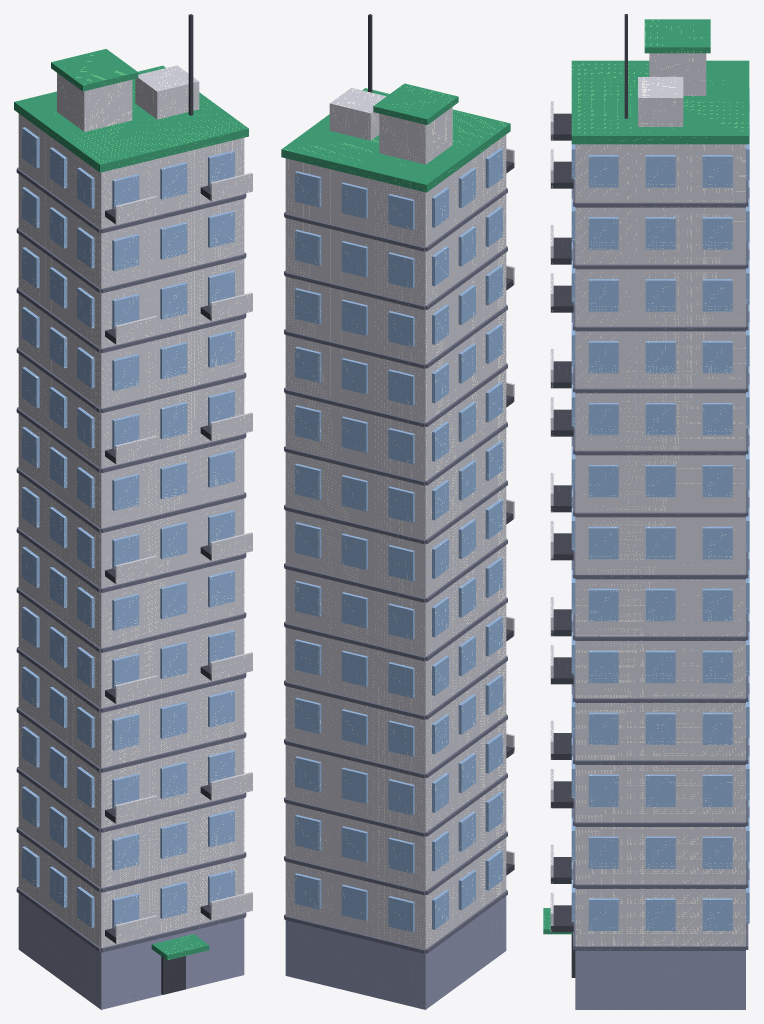
File: panel-c.glb
3 views of the same model, side by side, from view 1: azimuth 30°, elevation 25°; view 2: azimuth 150°, elevation 25°; view 3: azimuth 270°, elevation 25° (orthographic). The views are drawn at different scales.
Parts seen in each view (by area): view 1: panel-c; view 2: panel-c; view 3: panel-c.
Part boxes in pixels (x1=…): panel-c: x1=14, y1=14, x2=252, y2=1009; panel-c: x1=281, y1=14, x2=514, y2=1009; panel-c: x1=543, y1=14, x2=749, y2=1009.
Size of the model in its own units: 0.782 by 4.75 by 0.906.
1 material, 1 textured.
